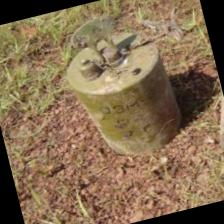OZM-72: (60, 23, 189, 168)
